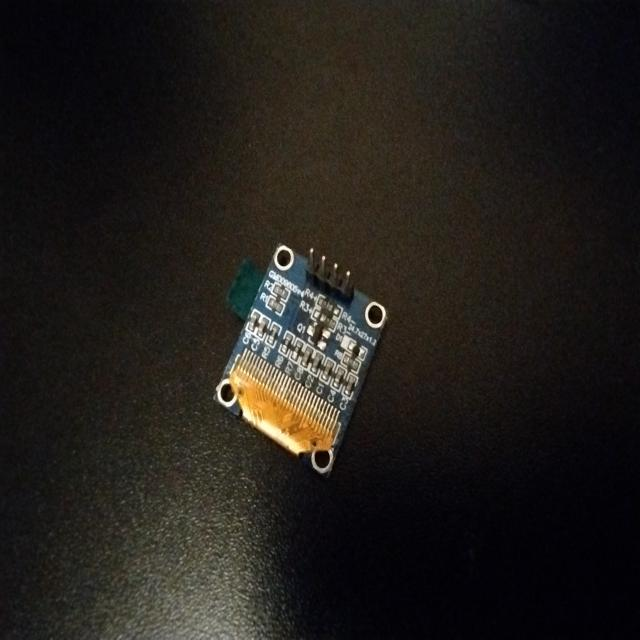oled: (208, 209, 391, 474)
